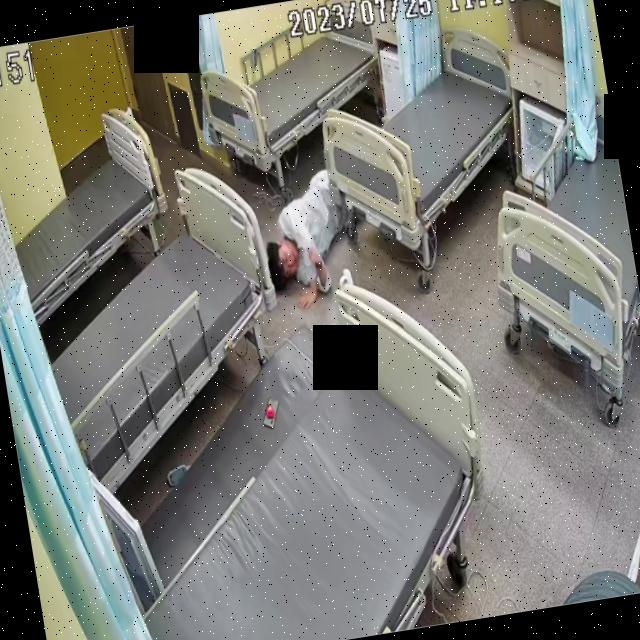bed: (97, 277, 501, 640), (20, 163, 296, 490), (474, 93, 640, 404), (308, 29, 530, 240), (0, 103, 181, 322), (198, 6, 392, 176)
fall: (245, 123, 361, 311)
patient: (244, 123, 361, 308)
